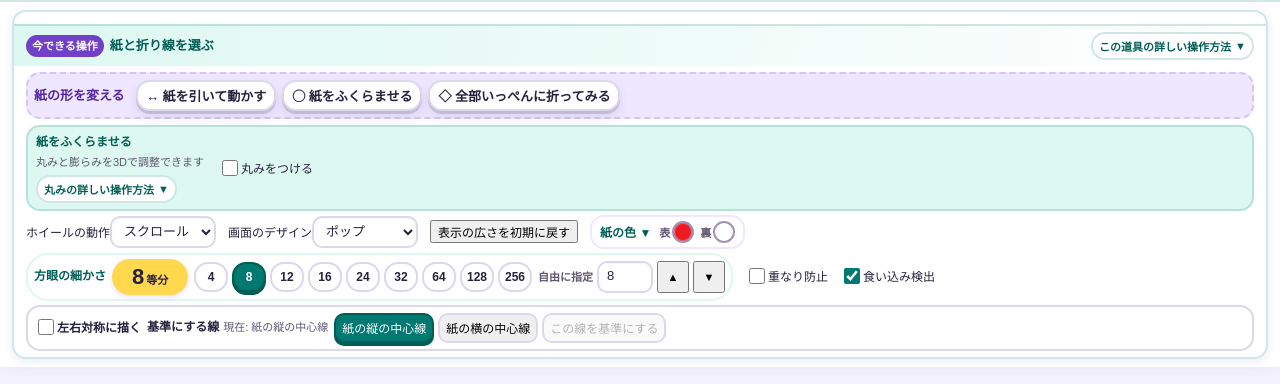
Test: 全部いっぺんに折ってみる画面 › 既存パネルの入口から0〜100%のつまみと記録でない約束を常時表示する
Click the button "◇ 全部いっぺんに折ってみる" at point(524, 96), box [428, 80, 620, 111]
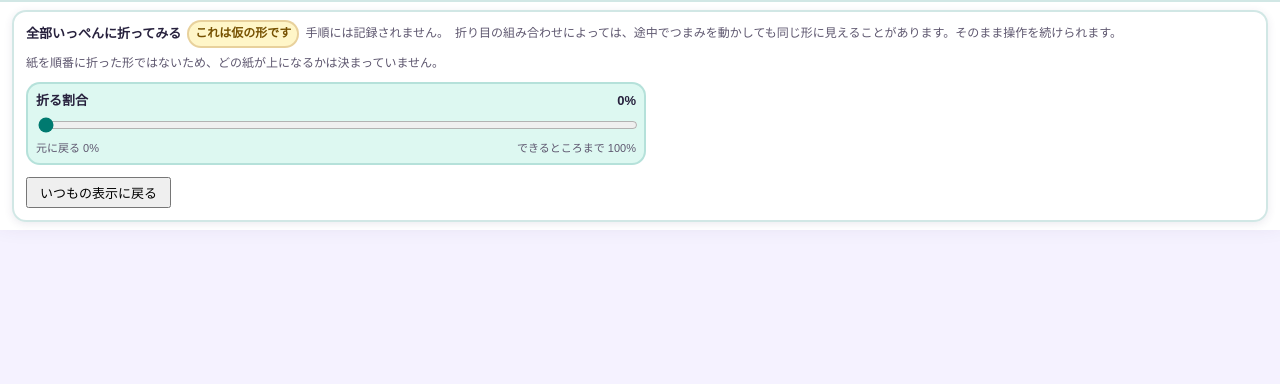
Expected: the text "これは仮の形です" is shown, [187, 20, 299, 48]
Expected: the slider named "全部の折り目を動かす割合" holds "0", [38, 117, 638, 133]
Expected: the text "元に戻る 0%" is shown, [36, 142, 99, 154]
